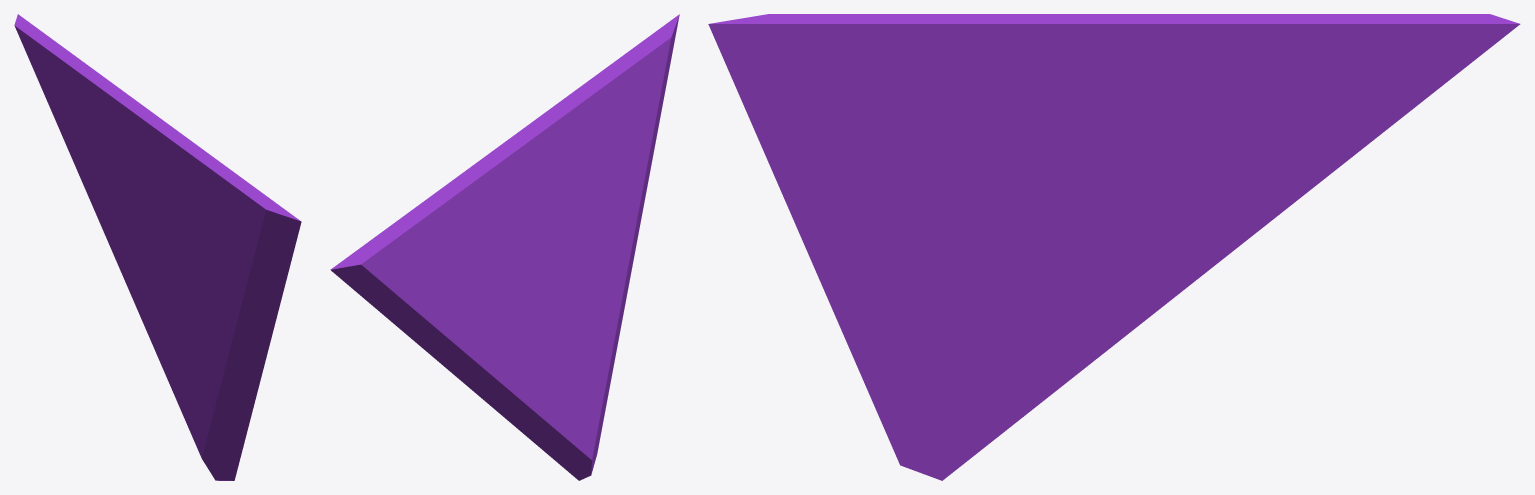
File: Glass_66_3_chunks.fbx
3 views of the same model, side by side, from view 1: azimuth 30°, elevation 25°; view 2: azimuth 150°, elevation 25°; view 3: azimuth 270°, elevation 25° (orthographic). The views are drawn at different scales.
Visible parts, largest first — view 1: Glass_66_3_2, Glass_66_3_5, Glass_66_3_1, Glass_66_3_6, Glass_66_3_4, Glass_66_3_3, Glass_66_3_0; view 2: Glass_66_3_5, Glass_66_3_2, Glass_66_3_1, Glass_66_3_6, Glass_66_3_4, Glass_66_3_3, Glass_66_3_0; view 3: Glass_66_3_2, Glass_66_3_5, Glass_66_3_1, Glass_66_3_3, Glass_66_3_4.
Part boxes in pixels (x1=…): Glass_66_3_2: x1=188, y1=161, x2=301, y2=443; Glass_66_3_5: x1=14, y1=14, x2=136, y2=262; Glass_66_3_1: x1=125, y1=281, x2=243, y2=480; Glass_66_3_6: x1=111, y1=96, x2=207, y2=234; Glass_66_3_4: x1=117, y1=210, x2=190, y2=295; Glass_66_3_3: x1=118, y1=92, x2=218, y2=165; Glass_66_3_0: x1=169, y1=234, x2=191, y2=326; Glass_66_3_5: x1=330, y1=174, x2=512, y2=384; Glass_66_3_2: x1=575, y1=14, x2=679, y2=390; Glass_66_3_1: x1=471, y1=317, x2=609, y2=480; Glass_66_3_6: x1=477, y1=91, x2=597, y2=269; Glass_66_3_4: x1=466, y1=204, x2=578, y2=388; Glass_66_3_3: x1=461, y1=88, x2=595, y2=173; Glass_66_3_0: x1=552, y1=201, x2=579, y2=323; Glass_66_3_2: x1=708, y1=14, x2=1029, y2=401; Glass_66_3_5: x1=1138, y1=14, x2=1520, y2=273; Glass_66_3_1: x1=873, y1=247, x2=1194, y2=480; Glass_66_3_3: x1=940, y1=15, x2=1215, y2=159; Glass_66_3_4: x1=990, y1=144, x2=1204, y2=281.
Bounding box in the file's own units: 27.2 × 580 × 934.
